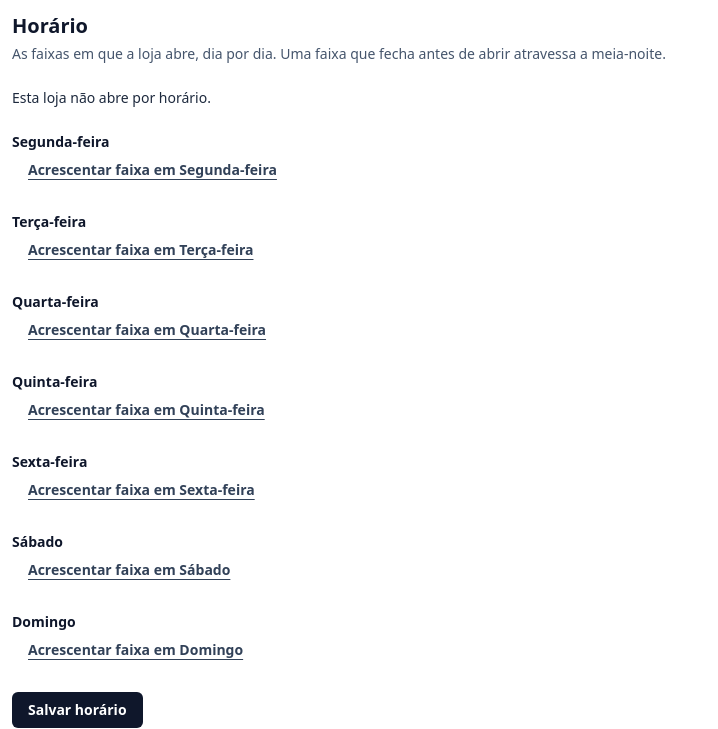
Test case: HorarioDaSemana · B, editar › 6 · acrescentar faixa num dia: só aquele dia ganhou
The image size is (718, 729).
Click the button "Acrescentar faixa em Segunda-feira". click: (152, 170)
box: left=12, top=152, right=293, bottom=188
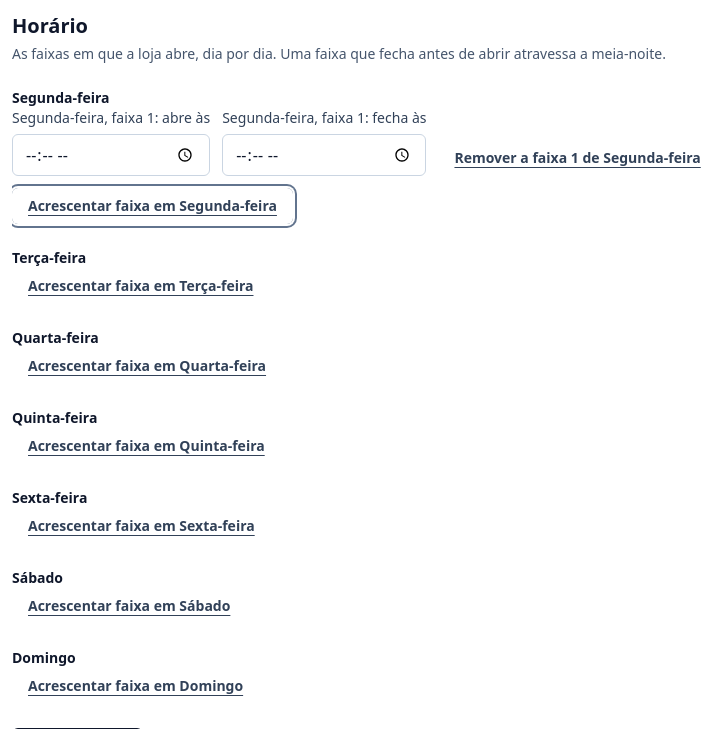
Result: the number of time fields labelled "Segunda-feira, faixa 1: abre às" is 1 at left=12, top=134, right=210, bottom=176
